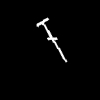double_crochet: (37, 18, 66, 61)
